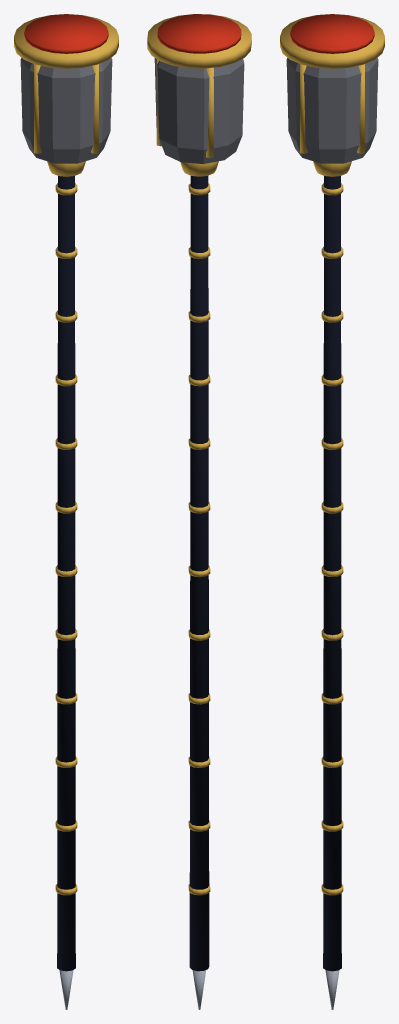
Rendered from imprimatur.glb.
3 views of the same model, side by side, from view 1: azimuth 90°, elevation 25°; view 2: azimuth 150°, elevation 25°; view 3: azimuth 270°, elevation 25° (orthographic).
Parts seen in each view (by area): view 1: Imprimatur; view 2: Imprimatur; view 3: Imprimatur.
Boxes of the visible parts, x1=… form: Imprimatur: x1=14, y1=14, x2=118, y2=1009; Imprimatur: x1=147, y1=14, x2=251, y2=1009; Imprimatur: x1=280, y1=14, x2=384, y2=1009.
Size of the model in its own units: 0.224 by 2.31 by 0.224.
